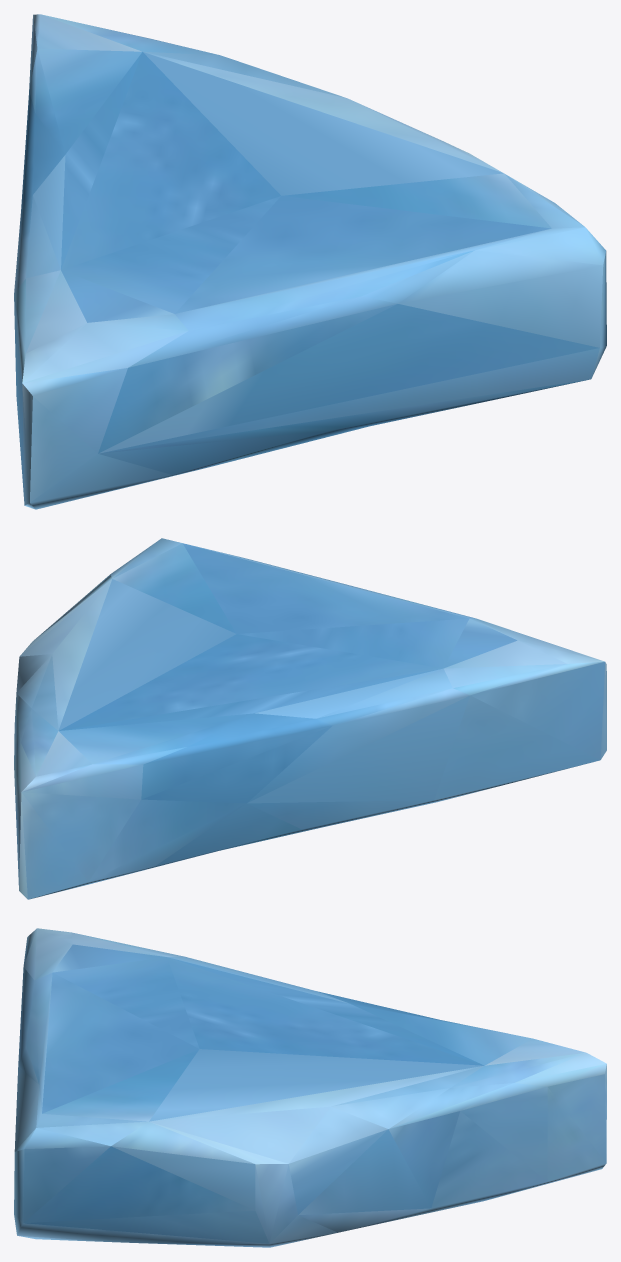
File: placa_hielo_rota_3.glb
3 views of the same model, one above another, from view 1: azimuth 30°, elevation 25°; view 2: azimuth 150°, elevation 25°; view 3: azimuth 270°, elevation 25° (orthographic). The views are drawn at different scales.
Parts seen in each view (by area): view 1: placa_hielo_rota_3_malla; view 2: placa_hielo_rota_3_malla; view 3: placa_hielo_rota_3_malla.
Part boxes in pixels (left/top/right/bottom): placa_hielo_rota_3_malla: left=14, top=14, right=606, bottom=509; placa_hielo_rota_3_malla: left=14, top=538, right=606, bottom=899; placa_hielo_rota_3_malla: left=14, top=928, right=606, bottom=1247.
Bounding box in the file's own units: 0.1101 × 0.0277 × 0.1234.
Materials: 1 (1 with a texture image).
